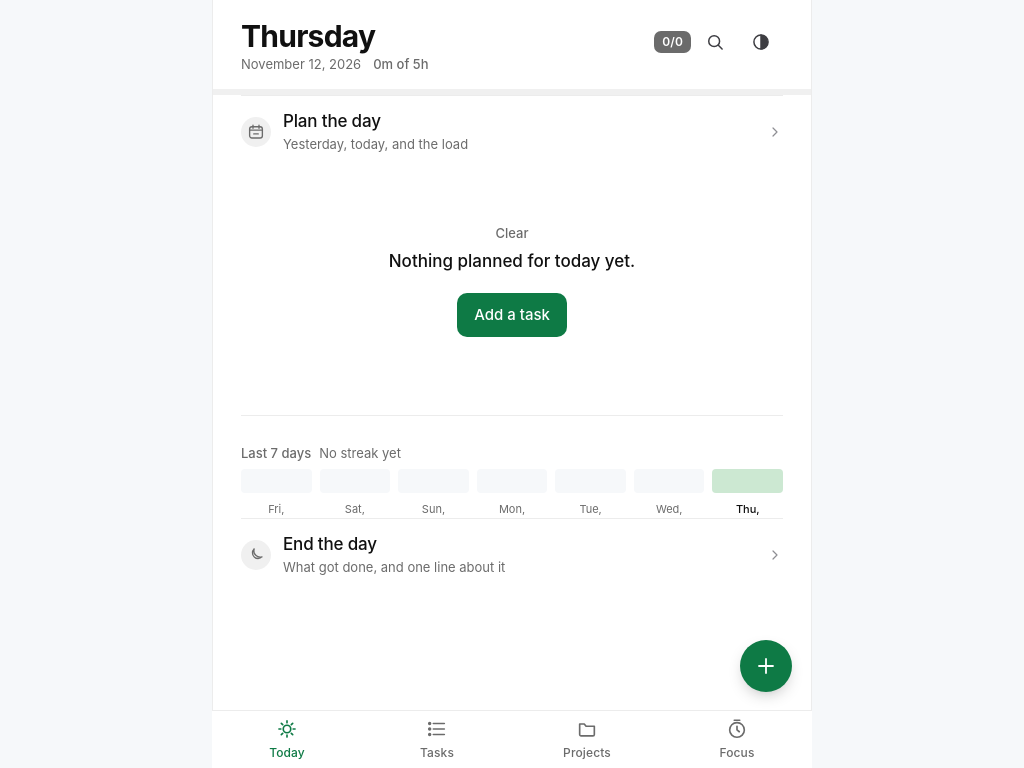
Scenario: app integration › changes the day's budget from the plan
Click the button with aria-label "planned of 5h a day". click: (401, 65)
box: [373,55,428,74]
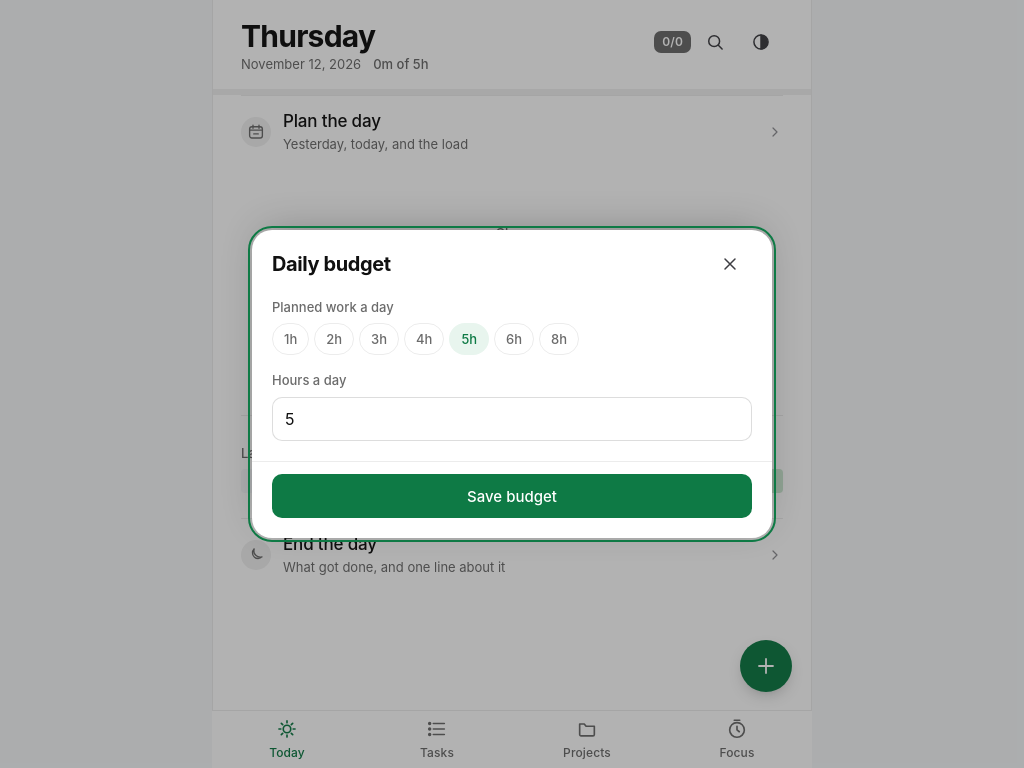
Click the button "4h". click: (424, 339)
box: [404,323,444,355]
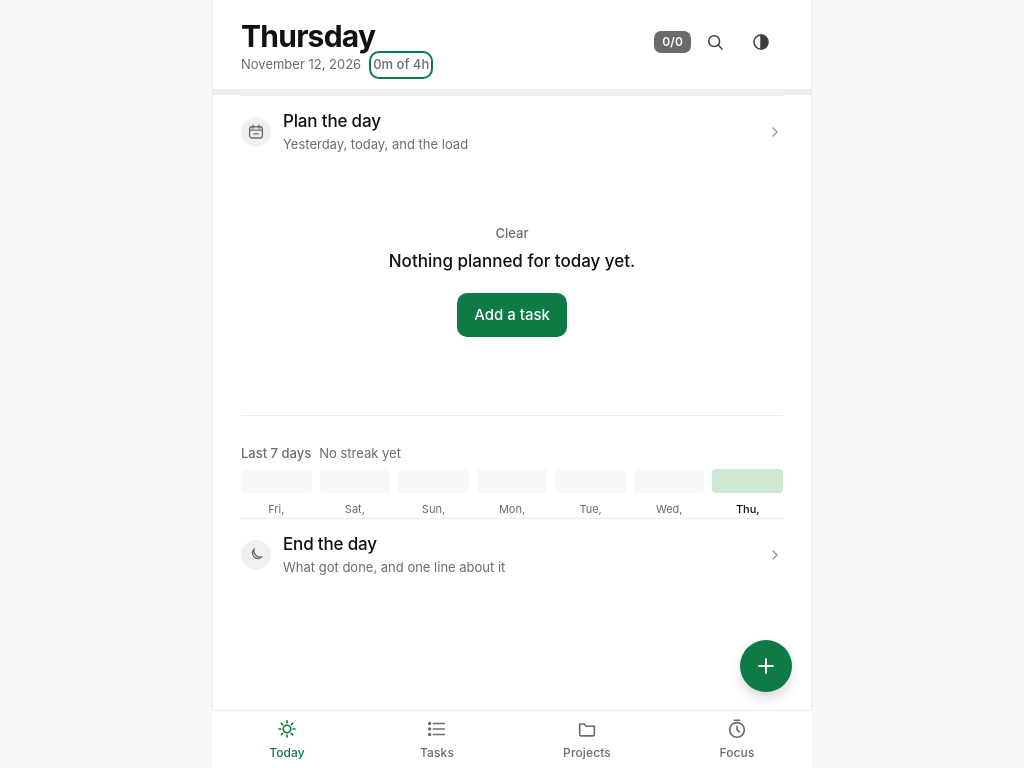
Expected: the button "0m of 4h" is shown, [373,55,429,74]
